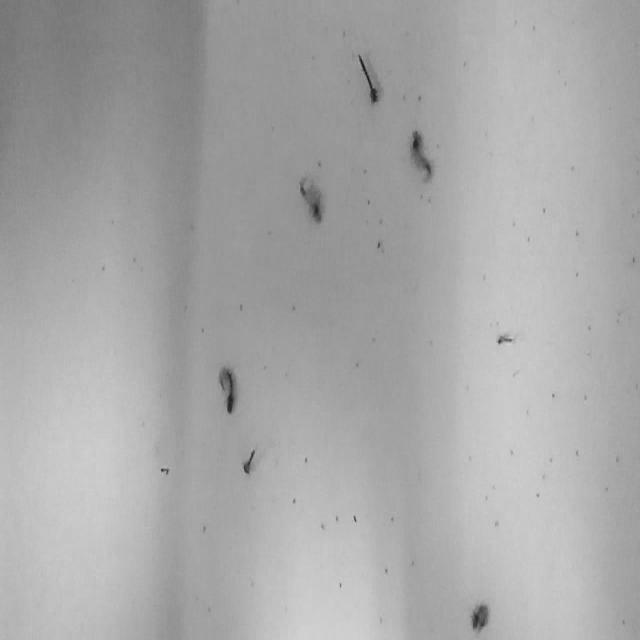larvas: (298, 171, 322, 221), (356, 52, 379, 104), (410, 128, 432, 182), (217, 366, 235, 412), (471, 602, 489, 630), (241, 446, 257, 474), (496, 332, 518, 344)
